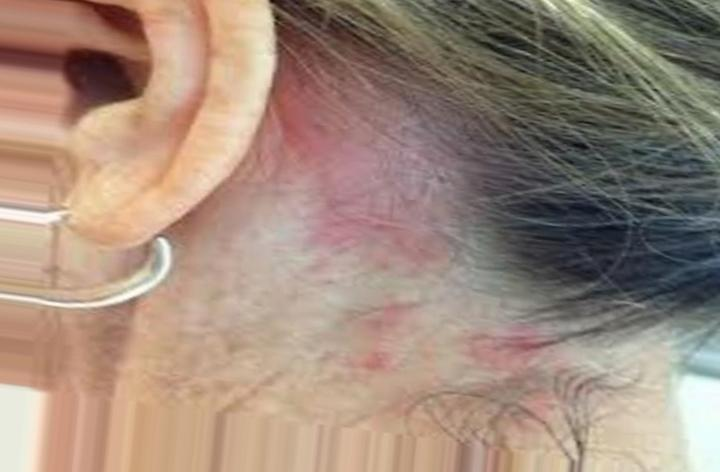Contact Dermatitis: (278, 78, 555, 388)
